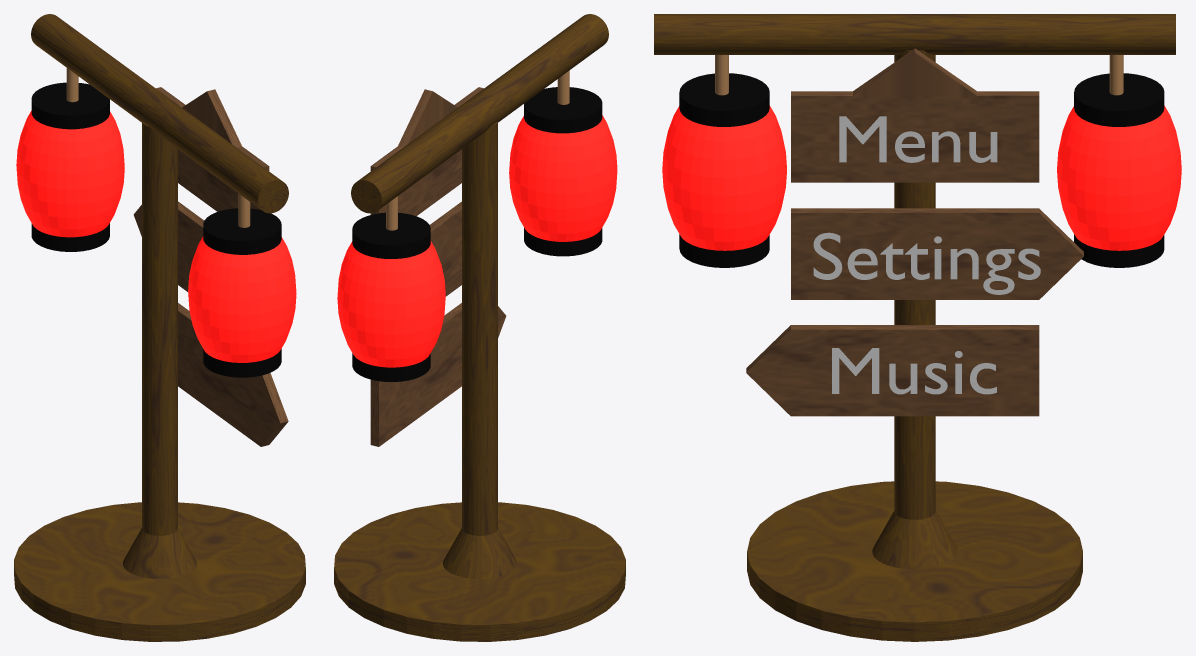
File: route-low.glb
3 renders of one model, left to right at view 1: azimuth 30°, elevation 25°; view 2: azimuth 150°, elevation 25°; view 3: azimuth 270°, elevation 25°, orthographic. The views are drawn at different scales.
Parts seen in each view (by area): view 1: Cylinder, Cylinder.001, Cylinder.002, Sphere.001, Sphere, Cube.003, Cube.002, Cylinder.003, Cylinder.008, Cone, Cube.001, Cylinder.005 (+1 smaller); view 2: Cylinder, Cylinder.001, Cylinder.002, Sphere.001, Sphere, Cube.003, Cube.002, Cylinder.008, Cylinder.003, Cone, Cube.001, Cylinder.005 (+1 smaller); view 3: Cylinder, Cube.002, Cube.003, Cube.001, Cylinder.002, Sphere, Sphere.001, Cylinder.001, Text.001, Cylinder.008, Cylinder.003, Cone (+4 smaller).
Part boxes in pixels (left/top/right/bottom): Cylinder: left=14, top=502, right=305, bottom=641; Cylinder.001: left=142, top=121, right=177, bottom=535; Cylinder.002: left=31, top=14, right=288, bottom=213; Sphere.001: left=16, top=110, right=124, bottom=237; Sphere: left=188, top=236, right=296, bottom=362; Cube.003: left=178, top=303, right=288, bottom=446; Cube.002: left=156, top=87, right=269, bottom=211; Cylinder.003: left=203, top=208, right=281, bottom=254; Cylinder.008: left=31, top=82, right=109, bottom=129; Cone: left=122, top=528, right=197, bottom=578; Cube.001: left=133, top=201, right=204, bottom=291; Cylinder.005: left=203, top=349, right=281, bottom=377; Cylinder: left=334, top=502, right=625, bottom=641; Cylinder.001: left=462, top=121, right=497, bottom=535; Cylinder.002: left=351, top=14, right=608, bottom=213; Sphere.001: left=337, top=241, right=445, bottom=367; Sphere: left=509, top=115, right=617, bottom=241; Cube.003: left=370, top=303, right=506, bottom=446; Cube.002: left=370, top=87, right=483, bottom=216; Cylinder.008: left=352, top=212, right=430, bottom=258; Cylinder.003: left=524, top=87, right=602, bottom=133; Cone: left=442, top=528, right=517, bottom=578; Cube.001: left=429, top=201, right=461, bottom=296; Cylinder.005: left=524, top=227, right=602, bottom=256; Cylinder: left=747, top=481, right=1082, bottom=641; Cube.002: left=791, top=48, right=1039, bottom=182; Cube.003: left=746, top=325, right=1039, bottom=416; Cube.001: left=791, top=208, right=1083, bottom=299; Cylinder.002: left=654, top=14, right=1175, bottom=54; Sphere: left=662, top=105, right=786, bottom=250; Sphere.001: left=1057, top=105, right=1181, bottom=250; Cylinder.001: left=894, top=50, right=935, bottom=519; Text.001: left=813, top=232, right=1040, bottom=294; Cylinder.008: left=1074, top=73, right=1164, bottom=126; Cylinder.003: left=679, top=73, right=769, bottom=126; Cone: left=872, top=510, right=957, bottom=569.
Bounding box in the file's own units: 2.27 × 4.14 × 3.56.
Materials: 9 (2 with a texture image).
